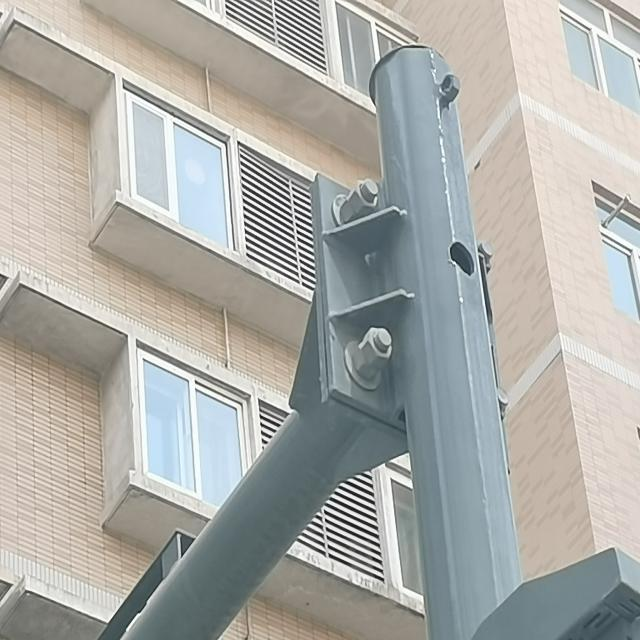bolt nut: (361, 324, 394, 372), (349, 176, 379, 219)
